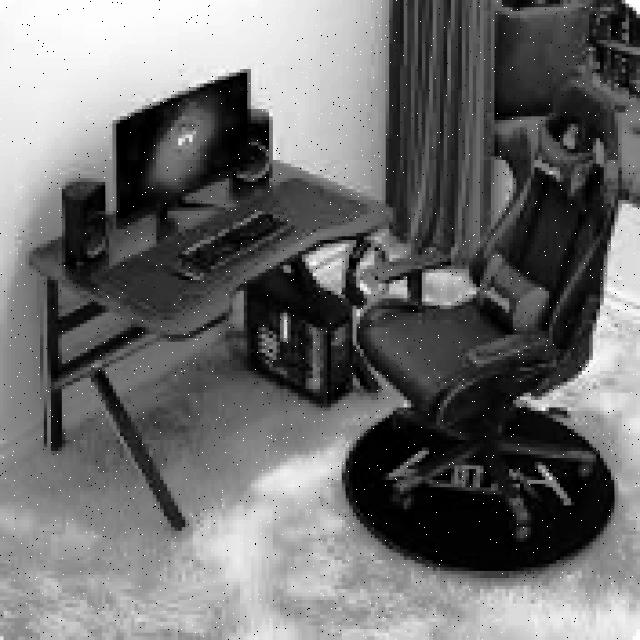book: (339, 93, 632, 524)
table: (29, 153, 396, 531)
